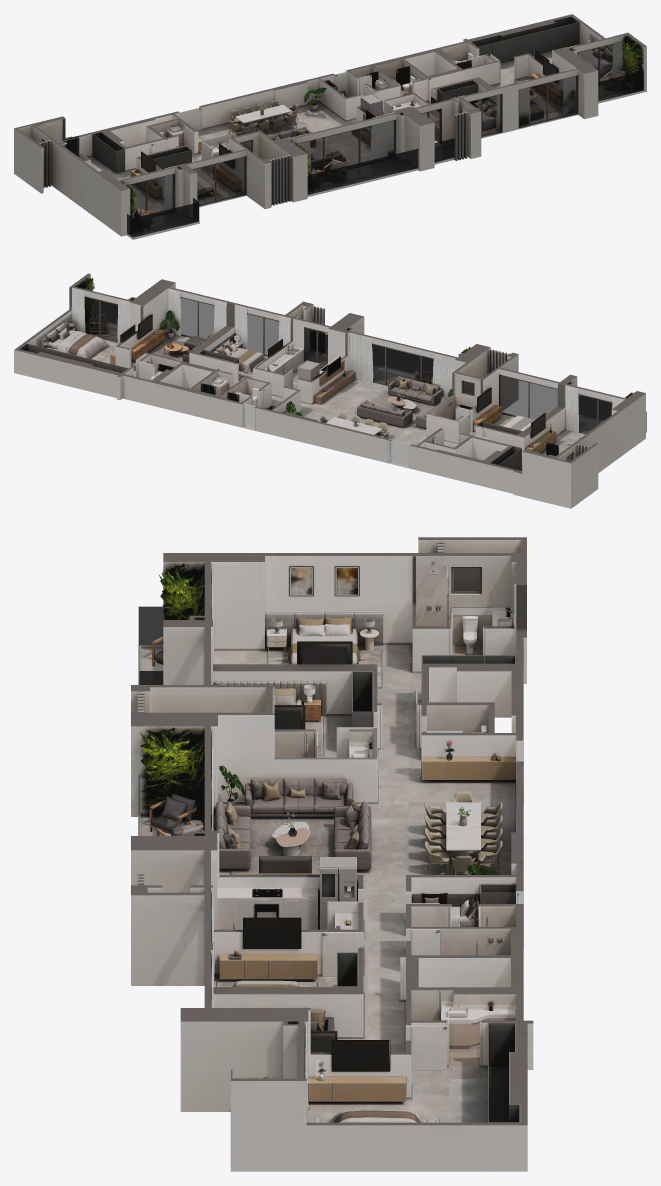
Rendered from flat_card.glb.
3 renders of one model, top to bottom at view 1: azimuth 30°, elevation 25°; view 2: azimuth 150°, elevation 25°; view 3: azimuth 270°, elevation 25°, orthographic. The views are drawn at different scales.
Parts seen in each view (by area): view 1: Object_8, Object_4, Object_6, Object_11; view 2: Object_8, Object_4, Object_6, Object_13, Object_11; view 3: Object_8, Object_6, Object_11, Object_4.
Part boxes in pixels (box(x1,y1,x2,y2)): Object_8: box(14, 14, 646, 239); Object_4: box(43, 42, 643, 237); Object_6: box(134, 48, 625, 222); Object_11: box(127, 38, 643, 229); Object_8: box(14, 273, 646, 508); Object_4: box(84, 297, 646, 461); Object_6: box(46, 311, 571, 457); Object_13: box(160, 310, 551, 434); Object_11: box(78, 277, 634, 398); Object_8: box(131, 537, 533, 1171); Object_6: box(161, 617, 479, 1122); Object_11: box(140, 563, 281, 1078); Object_4: box(138, 568, 487, 1077).
Size of the model in its own units: 31.56 by 2.72 by 9.95.
Materials: 5 (4 with a texture image).
